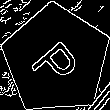P_NE: (26, 29, 87, 90)
